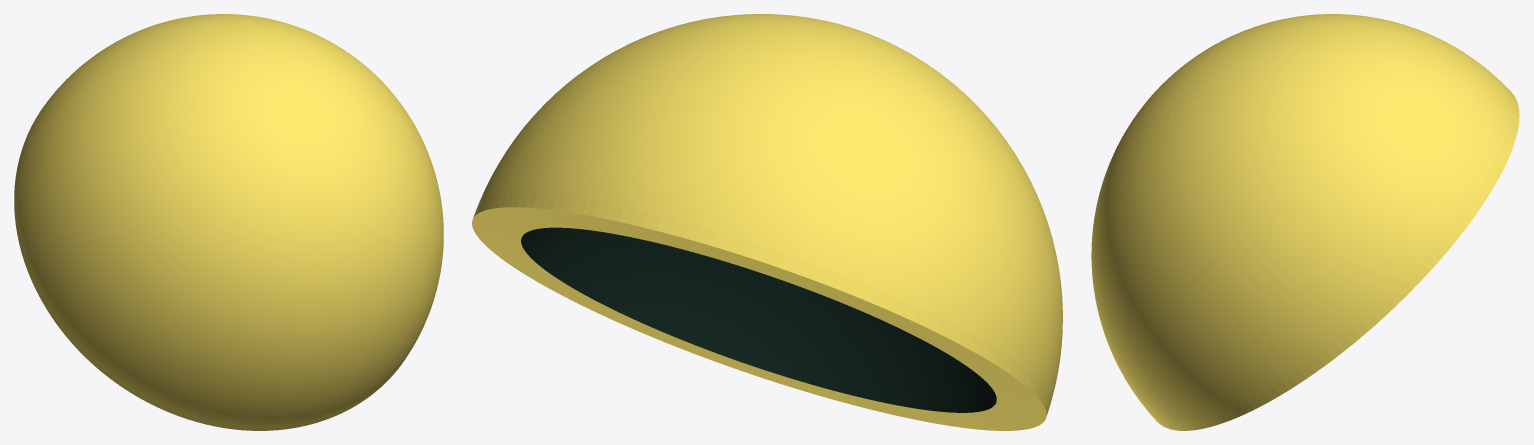
The model's file is techman3.glb.
3 views of the same model, side by side, from view 1: azimuth 30°, elevation 25°; view 2: azimuth 150°, elevation 25°; view 3: azimuth 270°, elevation 25° (orthographic). The views are drawn at different scales.
Visible parts, largest first — view 1: Sphere; view 2: Sphere; view 3: Sphere.
Boxes of the visible parts, box(x1,y1,x2,y2) form: Sphere: box(14, 14, 443, 430); Sphere: box(472, 14, 1062, 430); Sphere: box(1091, 14, 1519, 430).
Bounding box in the file's own units: 1.97 × 1.63 × 1.75.
